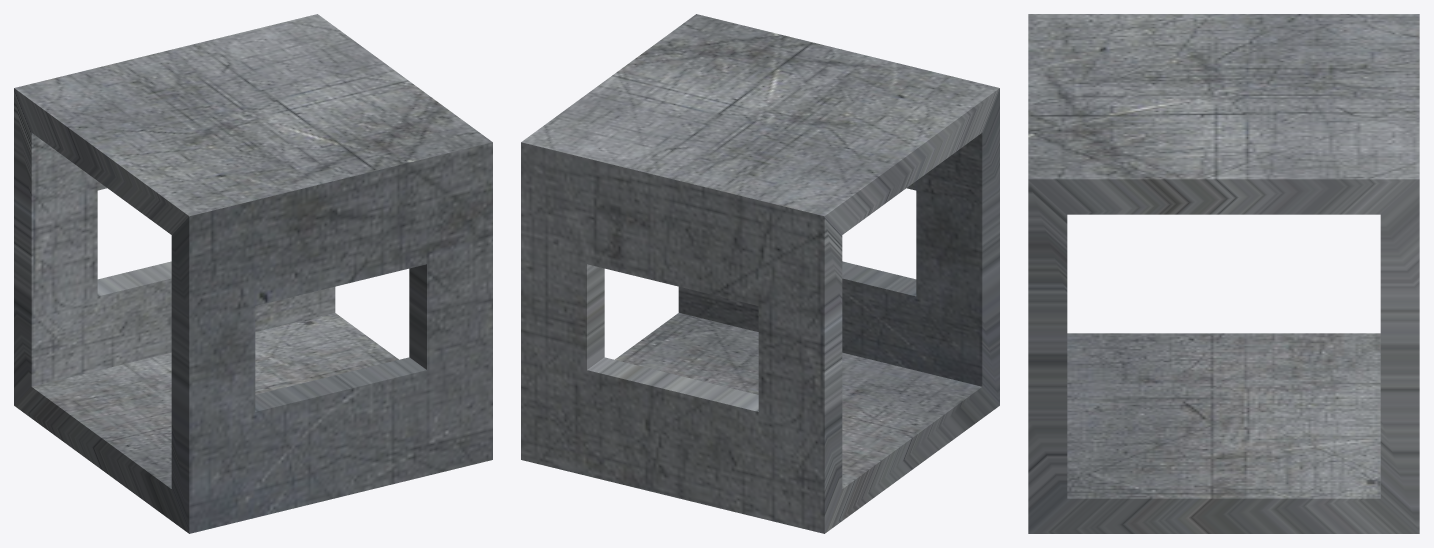
Rendered from TheOuterLevel.fbx_3x3_PassWith2Windows.fbx.
The picture shows the model from 3 angles, left to right: view 1: azimuth 30°, elevation 25°; view 2: azimuth 150°, elevation 25°; view 3: azimuth 270°, elevation 25°; orthographic projection. The views are drawn at different scales.
Parts seen in each view (by area): view 1: 3x3_PassWith2Windows; view 2: 3x3_PassWith2Windows; view 3: 3x3_PassWith2Windows.
Part boxes in pixels (x1,y1,x2,y2): 3x3_PassWith2Windows: (14,14,492,533); 3x3_PassWith2Windows: (521,14,999,533); 3x3_PassWith2Windows: (1028,14,1419,533).
Size of the model in its own units: 300 by 300 by 300.
1 material, 1 textured.
